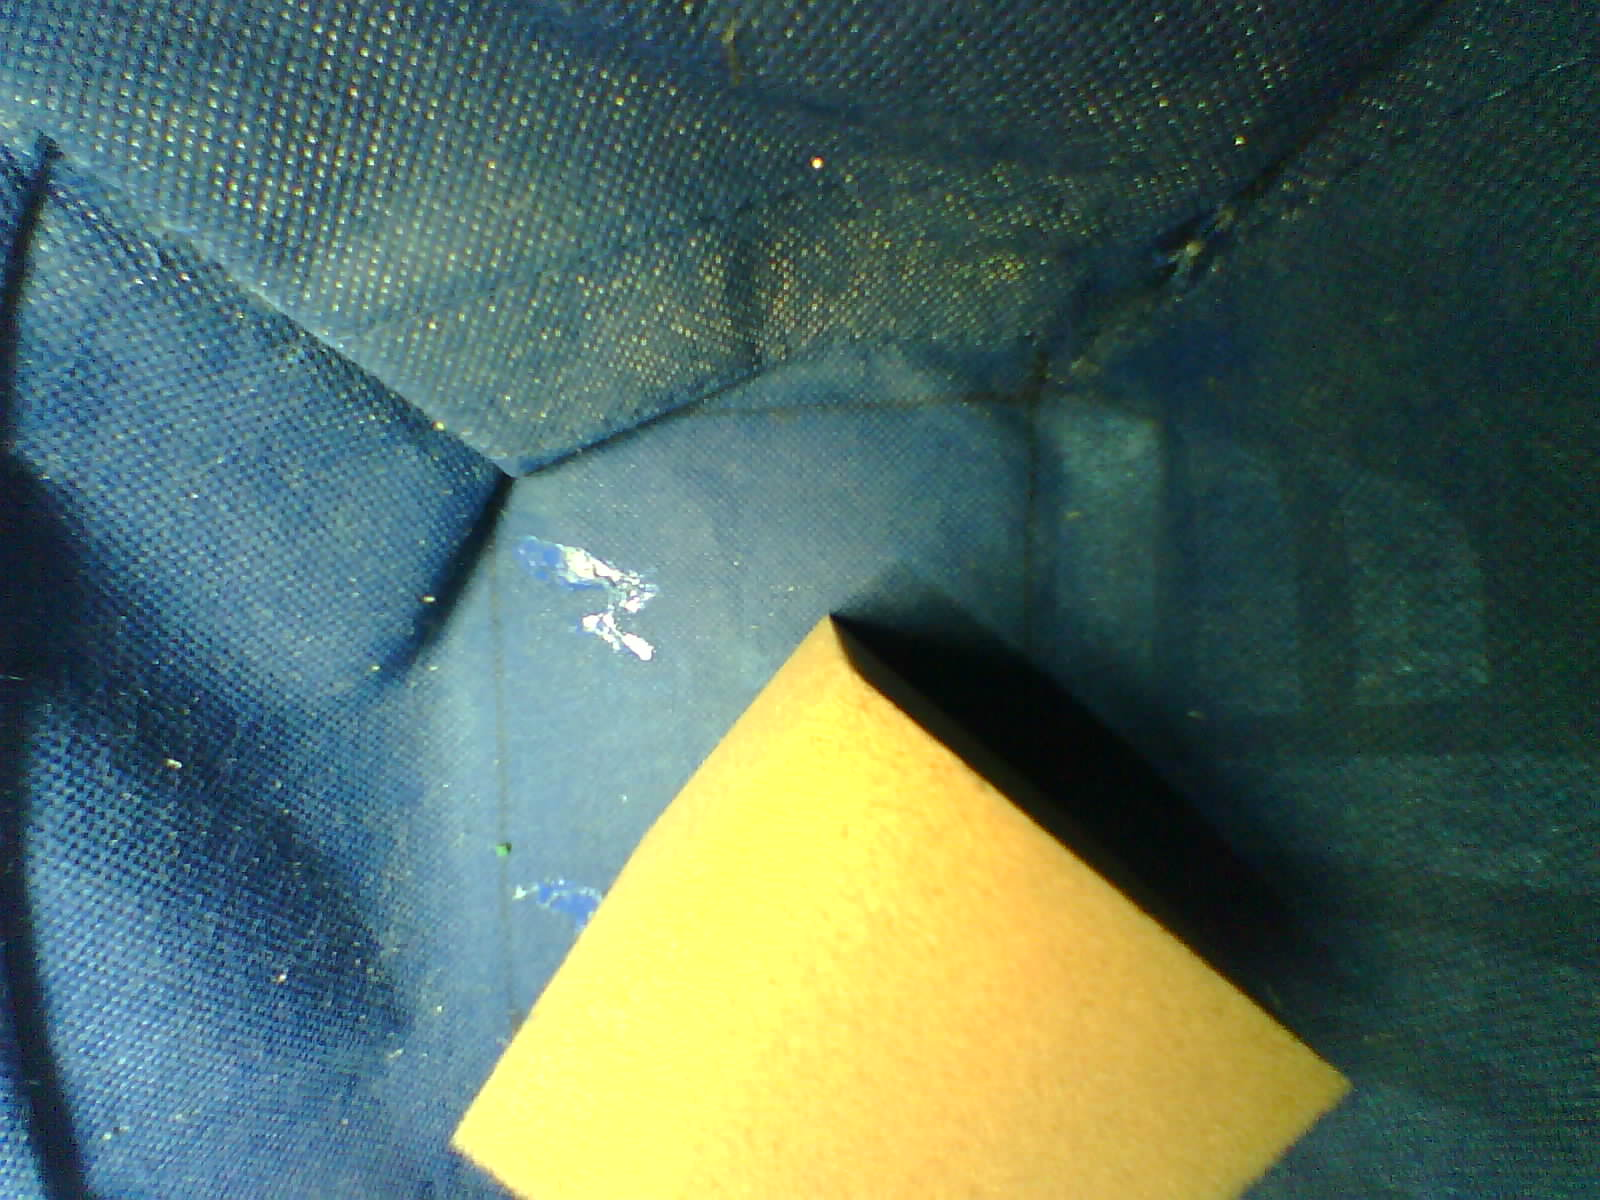cube-soft: (412, 599, 1400, 1200)
